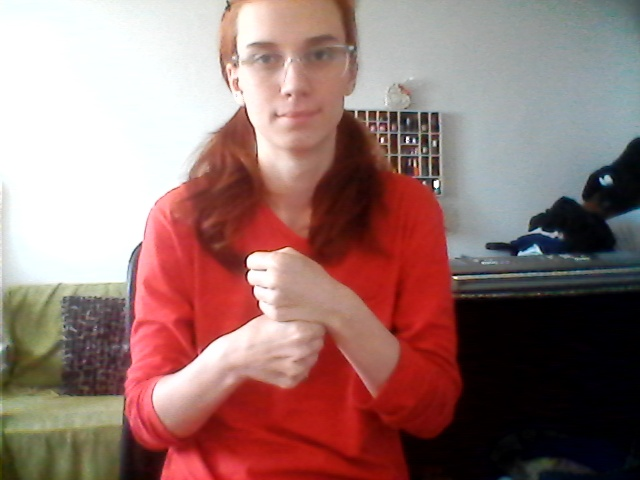g: (227, 241, 339, 398)
